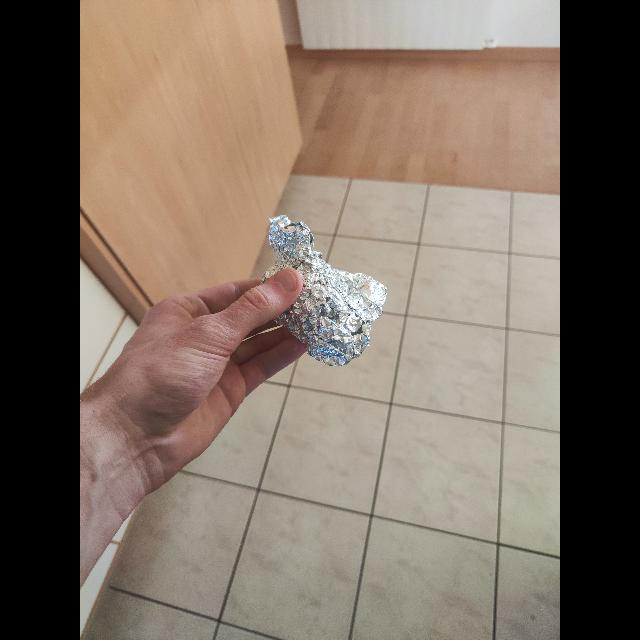Metal: (265, 216, 389, 368)
